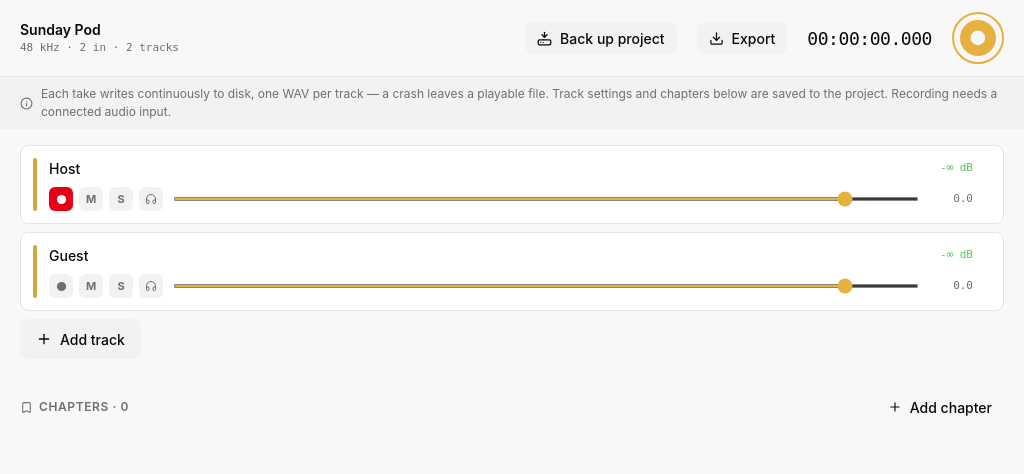
Test case: RecordingPage transport wiring › surfaces a start failure in the action-error banner without claiming to record
Click the button named "record": (978, 38) [952,12,1004,64]
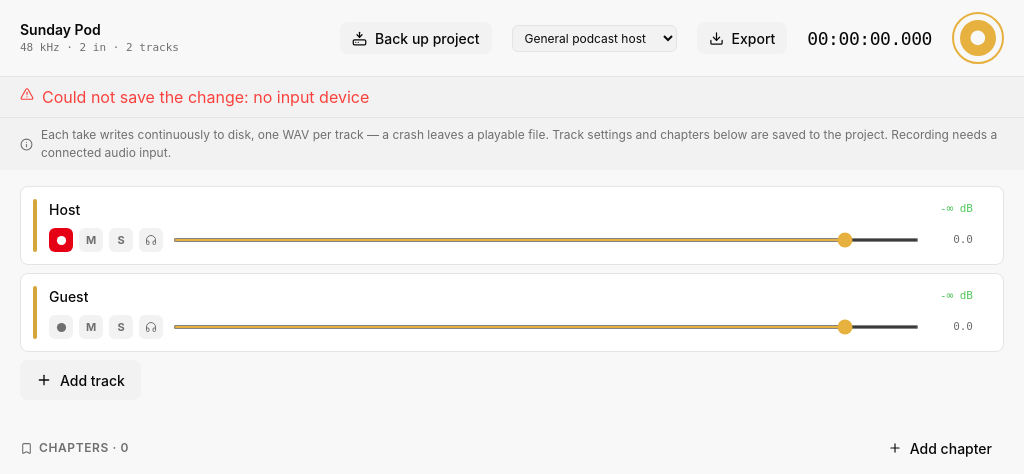
Now the message "Could not save the change: no input device" is shown, box [0,77,1023,118]
Now the message with test id "action-error" shows "no input device", box [42,87,369,107]
